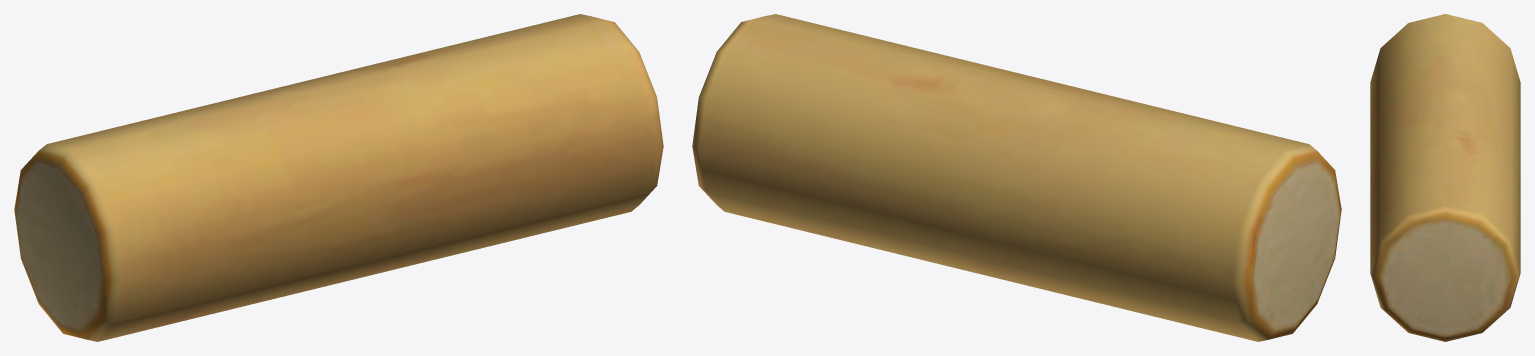
3 renders of one model, left to right at view 1: azimuth 30°, elevation 25°; view 2: azimuth 150°, elevation 25°; view 3: azimuth 270°, elevation 25°, orthographic. The views are drawn at different scales.
Visible parts, largest first — view 1: SM_YM; view 2: SM_YM; view 3: SM_YM.
Part boxes in pixels (left/top/right/bottom): SM_YM: left=14, top=14, right=663, bottom=341; SM_YM: left=692, top=14, right=1341, bottom=341; SM_YM: left=1370, top=14, right=1520, bottom=341.
Size of the model in its own units: 1.35 by 0.4283 by 0.4283.
Materials: 1 (1 with a texture image).
